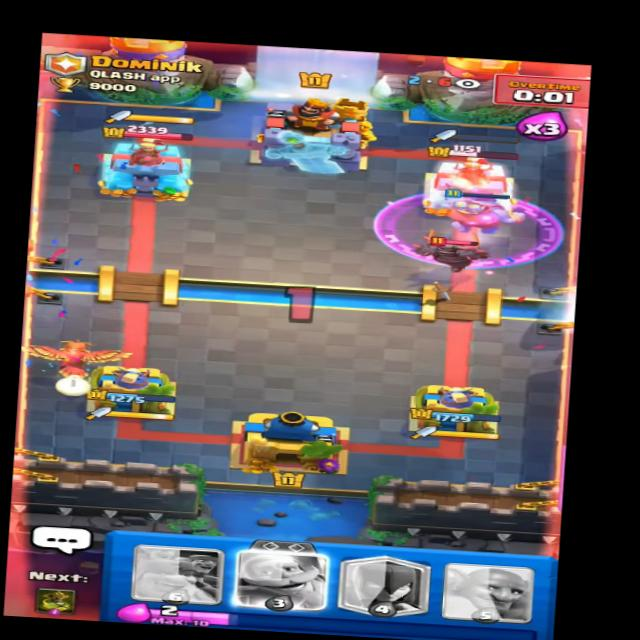pekka: (415, 232, 496, 275)
